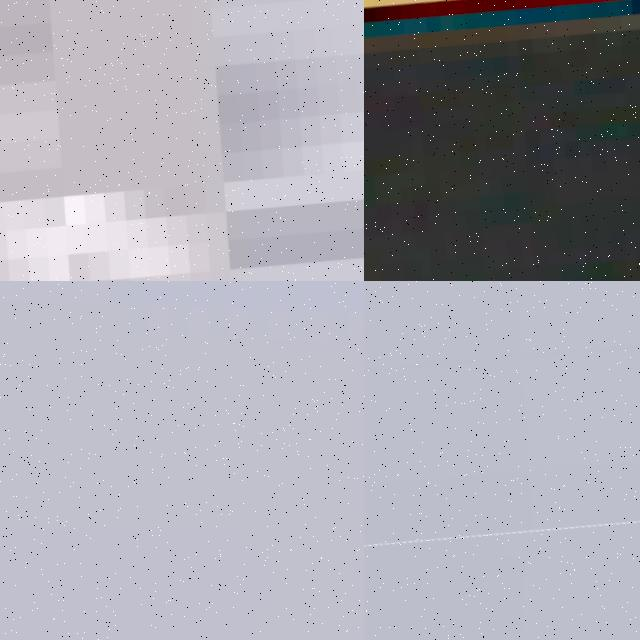0: (0, 0, 364, 281), (364, 281, 640, 563)
drone: (364, 0, 640, 281)
